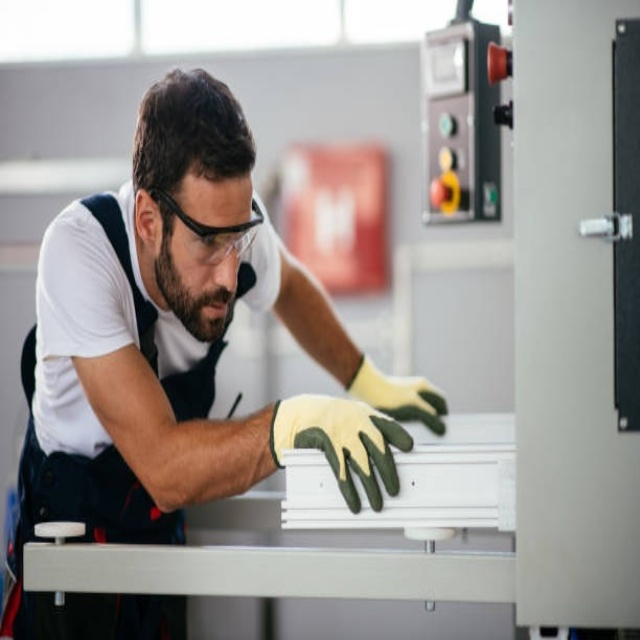Gafas: (149, 187, 263, 264)
Guantes: (264, 373, 419, 510), (345, 352, 448, 436)
Sin_mascara: (197, 293, 228, 334)
